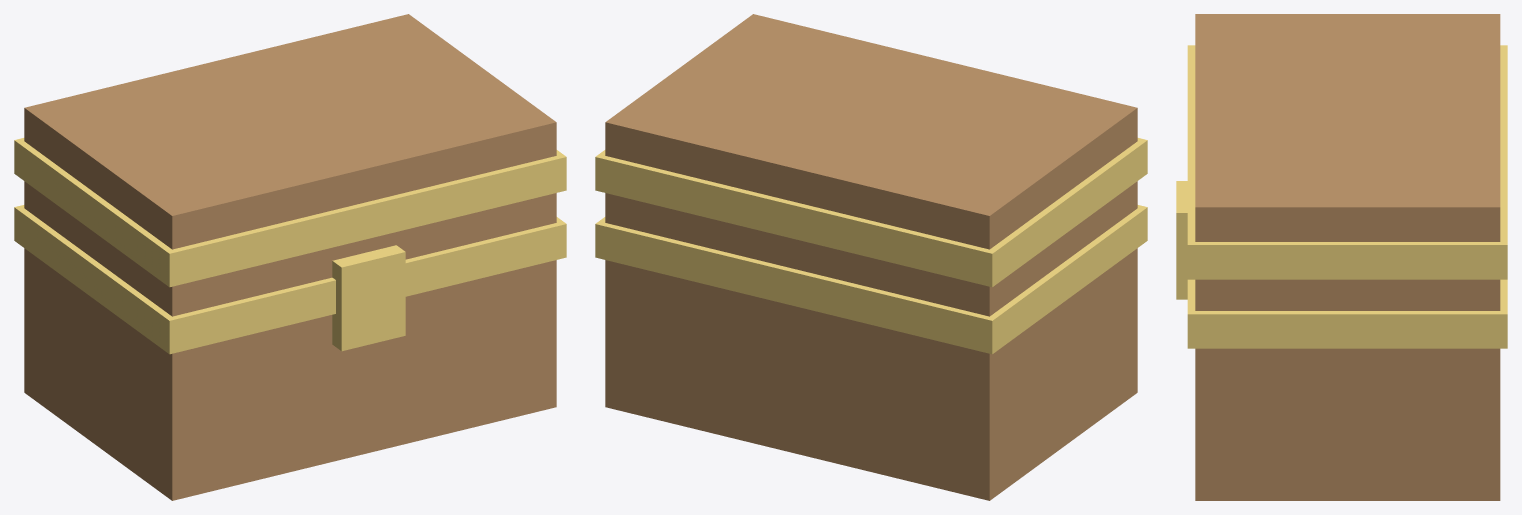
The model's file is Сундук.glb.
The picture shows the model from 3 angles, left to right: view 1: azimuth 30°, elevation 25°; view 2: azimuth 150°, elevation 25°; view 3: azimuth 270°, elevation 25°; orthographic projection. The views are drawn at different scales.
Parts seen in each view (by area): view 1: Сундук, Крышка; view 2: Сундук, Крышка; view 3: Крышка, Сундук.
Part boxes in pixels (bbox=[...]): Сундук: bbox=[14, 192, 566, 500]; Крышка: bbox=[14, 14, 566, 299]; Сундук: bbox=[595, 192, 1147, 500]; Крышка: bbox=[595, 14, 1147, 299]; Крышка: bbox=[1187, 14, 1507, 293]; Сундук: bbox=[1176, 181, 1507, 500].
Size of the model in its own units: 1.24 by 0.85 by 0.87.
